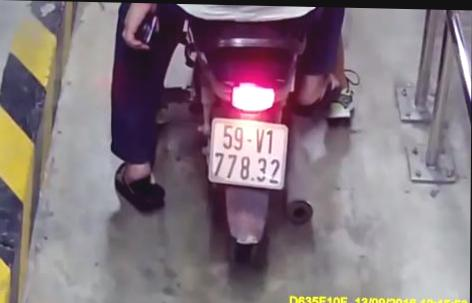License_Plate: (201, 105, 296, 198)
